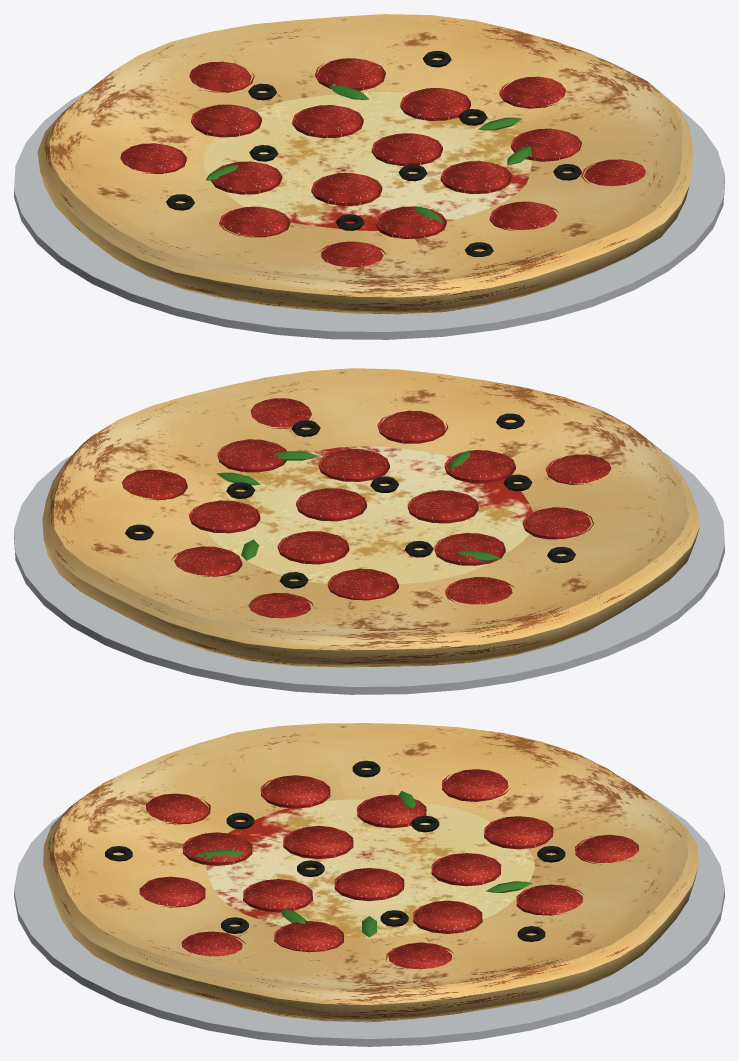
File: meal_pizza_pepperoni.glb
The picture shows the model from 3 angles, top to bottom: view 1: azimuth 30°, elevation 25°; view 2: azimuth 150°, elevation 25°; view 3: azimuth 270°, elevation 25°; orthographic projection.
Parts seen in each view (by area): view 1: meal_pizza_pepperoni; view 2: meal_pizza_pepperoni; view 3: meal_pizza_pepperoni.
Part boxes in pixels (bbox=[...]): meal_pizza_pepperoni: bbox=[14, 14, 724, 339]; meal_pizza_pepperoni: bbox=[14, 368, 724, 694]; meal_pizza_pepperoni: bbox=[14, 723, 724, 1046].
Bounding box in the file's own units: 0.33 × 0.021 × 0.33.
Materials: 6 (3 with a texture image).
